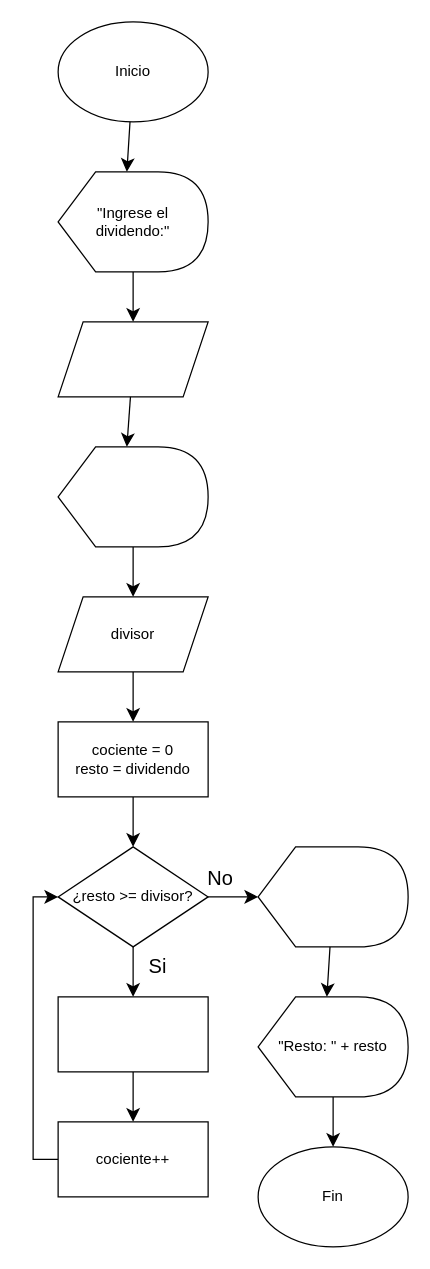
This 430x1269 diagram has some shape labels left out. Here are the shapes that lost their labels. From the top down, the box of each, then its label:
(57, 321, 208, 397): dividendo
(57, 446, 208, 547): "Ingrese el divisor:"
(257, 846, 408, 947): "Cociente: " + cociente
(57, 996, 208, 1072): resto = resto - divisor
